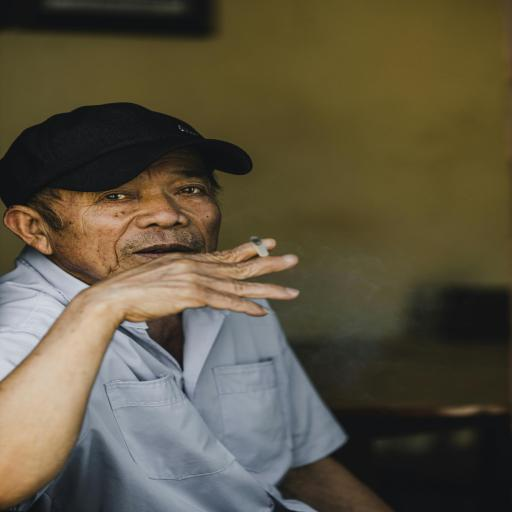terdeteksi pegang rokok: (188, 210, 316, 325)
